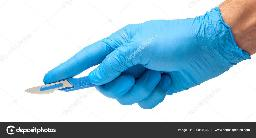scalpel: (24, 75, 104, 95)
